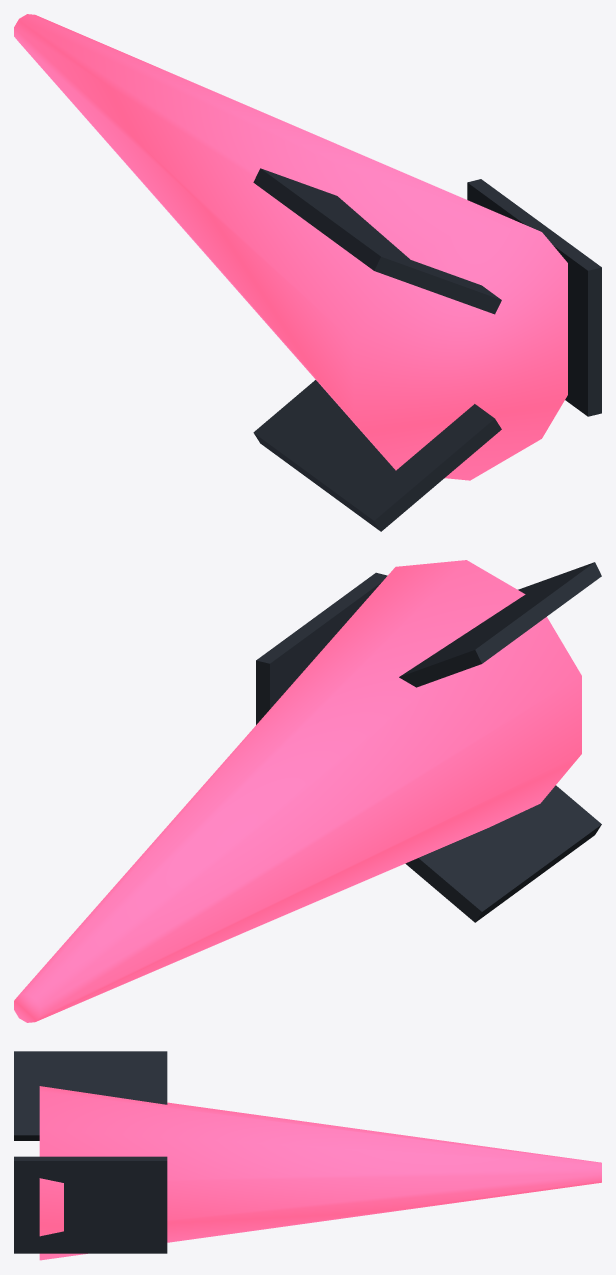
Rendered from EnemyDart.fbx.
The picture shows the model from 3 angles, top to bottom: view 1: azimuth 30°, elevation 25°; view 2: azimuth 150°, elevation 25°; view 3: azimuth 270°, elevation 25°; orthographic projection. The views are drawn at different scales.
Parts seen in each view (by area): view 1: Eye_Body0, Metal_Fin2, Metal_Fin1, Metal_Fin0; view 2: Eye_Body0, Metal_Fin2, Metal_Fin1, Metal_Fin0; view 3: Eye_Body0, Metal_Fin0, Metal_Fin1.
Boxes of the visible parts, x1,y1,x2,y2 form: Eye_Body0: (14, 14, 567, 480); Metal_Fin2: (253, 380, 501, 531); Metal_Fin1: (253, 168, 501, 314); Metal_Fin0: (467, 179, 601, 416); Eye_Body0: (14, 560, 581, 1022); Metal_Fin2: (405, 785, 601, 922); Metal_Fin1: (399, 562, 601, 687); Metal_Fin0: (256, 572, 387, 724); Eye_Body0: (39, 1086, 601, 1260); Metal_Fin0: (14, 1156, 167, 1253); Metal_Fin1: (14, 1051, 167, 1140).
Size of the model in its own units: 0.0666 by 0.23 by 0.0754.
